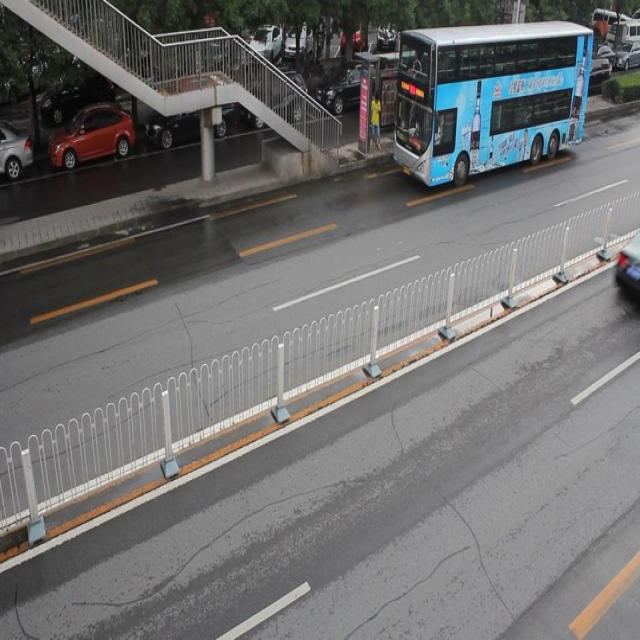car: (50, 105, 136, 172), (144, 92, 236, 150), (314, 63, 389, 122), (243, 72, 308, 129), (564, 54, 606, 104), (1, 125, 34, 181)
van: (391, 19, 593, 190)
